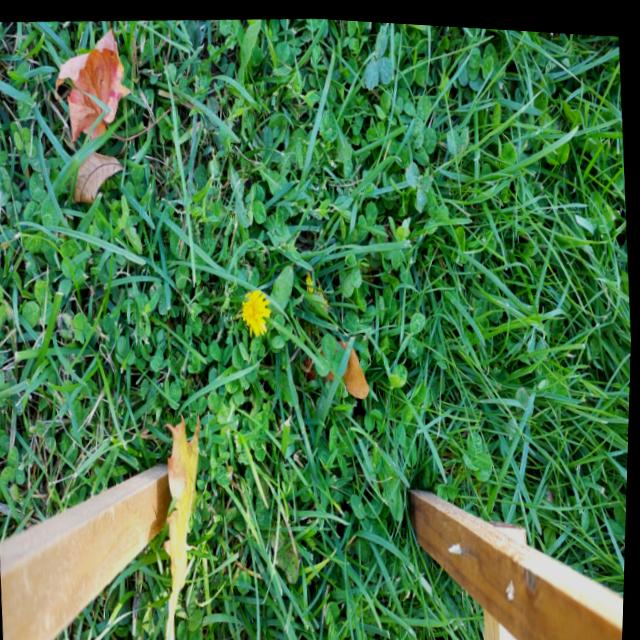base: (252, 347, 275, 382), (222, 299, 244, 333)
